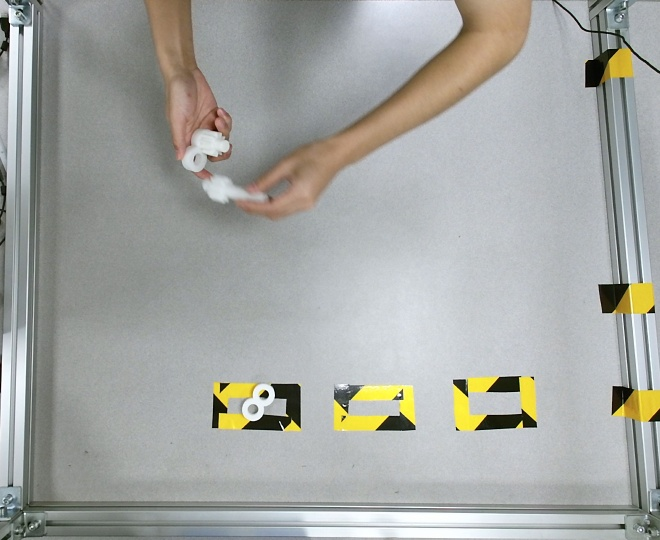stage_2: (181, 129, 229, 172)
